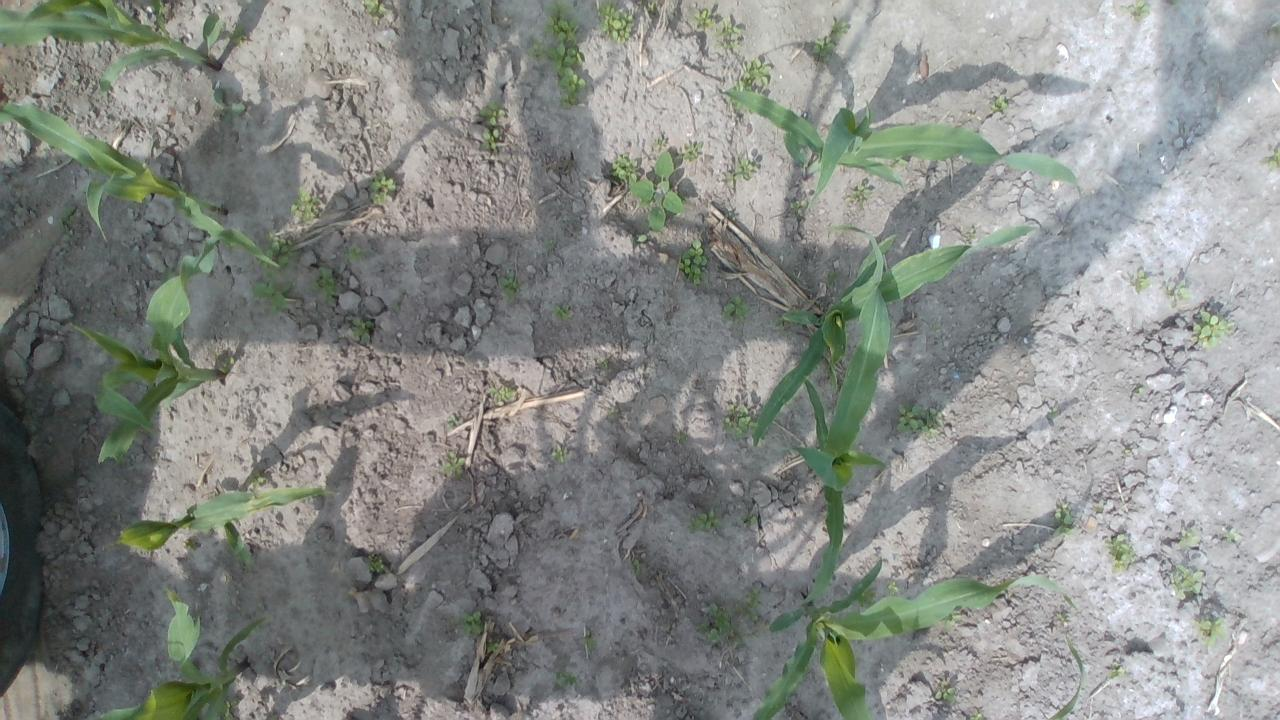Maize: (751, 224, 1039, 446), (745, 557, 1089, 720), (0, 100, 282, 268), (772, 223, 893, 607), (704, 89, 1082, 211), (70, 236, 224, 462), (94, 589, 266, 720), (0, 0, 224, 100), (119, 484, 332, 565), (1018, 630, 1086, 720)
Weeds: (526, 0, 588, 108), (628, 151, 686, 232), (698, 588, 764, 646), (257, 232, 299, 280), (896, 403, 944, 439), (248, 279, 294, 316), (596, 0, 634, 44), (1190, 311, 1234, 348), (812, 16, 848, 56), (1104, 533, 1138, 575), (678, 239, 709, 285), (730, 58, 771, 91), (310, 266, 344, 304), (211, 88, 246, 124), (1170, 564, 1204, 600), (722, 403, 756, 439), (288, 186, 321, 222), (1193, 616, 1227, 649), (684, 509, 723, 534), (1051, 501, 1077, 538), (367, 172, 397, 204), (726, 157, 756, 188), (715, 18, 741, 50), (722, 295, 749, 324), (1166, 278, 1192, 308), (479, 100, 508, 126), (441, 450, 466, 477), (612, 154, 636, 182), (844, 183, 872, 207), (498, 271, 520, 301), (1122, 0, 1152, 22), (350, 316, 373, 344), (57, 204, 77, 235), (1131, 270, 1153, 294), (461, 611, 483, 635), (856, 584, 876, 610), (225, 24, 248, 46), (1179, 526, 1200, 550), (934, 680, 955, 704), (480, 128, 500, 153), (488, 386, 515, 404), (694, 8, 714, 31), (362, 0, 386, 19), (942, 606, 962, 628), (1262, 146, 1280, 170), (682, 141, 703, 160), (554, 668, 576, 686), (580, 629, 598, 651), (1106, 661, 1126, 680), (247, 470, 264, 492), (367, 553, 385, 573), (554, 303, 572, 322), (552, 443, 568, 464), (789, 200, 807, 218), (774, 316, 790, 336), (628, 558, 644, 578), (739, 512, 758, 528), (726, 96, 746, 111), (991, 94, 1008, 111), (219, 356, 236, 373), (346, 245, 364, 261), (826, 269, 840, 285), (893, 154, 910, 166), (886, 580, 898, 596), (544, 238, 558, 251), (596, 356, 610, 369), (632, 234, 648, 245), (675, 430, 688, 443), (652, 136, 666, 148), (1226, 527, 1237, 542), (1120, 445, 1132, 458), (969, 709, 983, 720), (1056, 612, 1068, 624), (184, 538, 196, 550), (446, 415, 456, 428), (608, 408, 619, 419), (1092, 502, 1104, 512), (967, 227, 976, 240), (1132, 386, 1145, 395), (1048, 406, 1058, 417), (392, 303, 403, 313), (488, 642, 498, 653), (229, 698, 240, 708), (724, 212, 736, 221), (646, 1, 655, 12), (1171, 0, 1179, 3)
